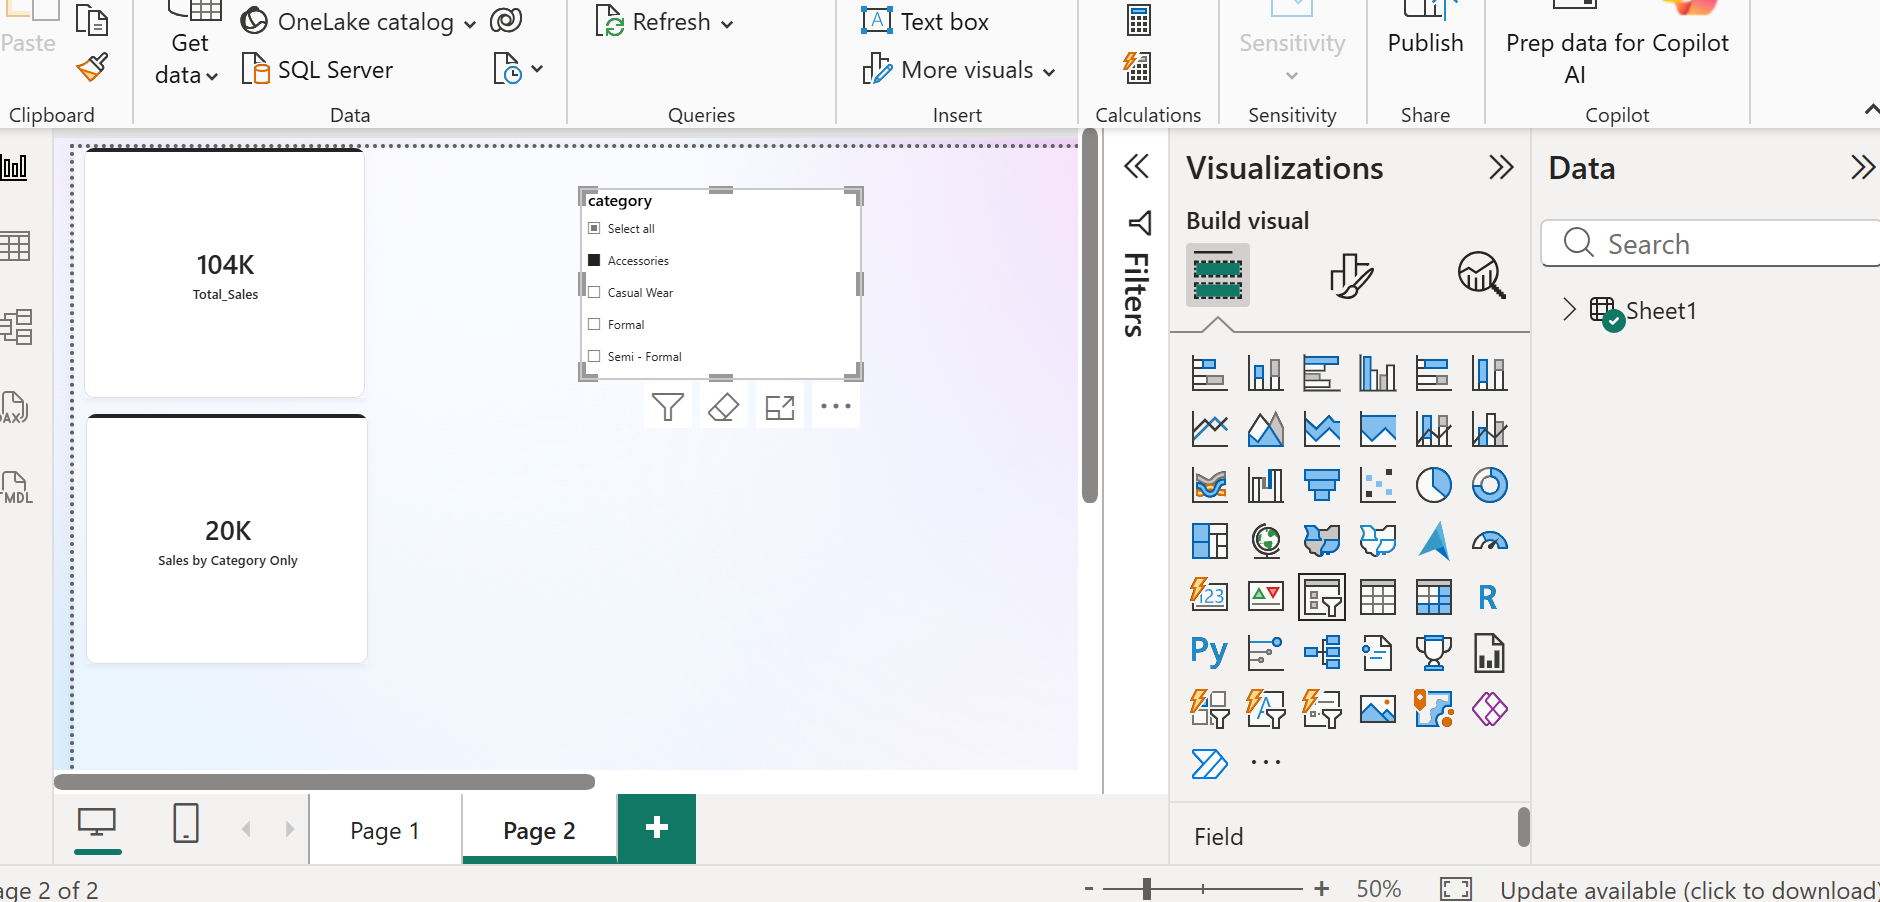

The page's visual inventory and layout, read from the dashboard file:
{"tool":"powerbi","page":{"name":"Page 2","canvas":[1920,1080],"ordinal":1},"visuals":[{"type":"cardVisual","fields":{"Data":["Sheet1.Total_Sales"]},"box":[10.6,0,281.8,250],"z":0},{"type":"cardVisual","fields":{"Data":["Sheet1.Sales by Category Only"]},"box":[11,265,282,250],"z":1},{"type":"slicer","fields":{"Values":["Sheet1.category"]},"box":[506.1,39.4,281.8,192.4],"z":3}]}

Visuals, with their boxes on the page's 1920x1080 design canvas (x1, y1, x2, y2). These are canvas units, not pixel positions in the 1880x902 screenshot, which may show the page scaled, cropped or inside an application window:
cardVisual - Sheet1.Total_Sales: rect(11, 0, 292, 250)
cardVisual - Sheet1.Sales by Category Only: rect(11, 265, 293, 515)
slicer - Sheet1.category: rect(506, 39, 788, 232)
